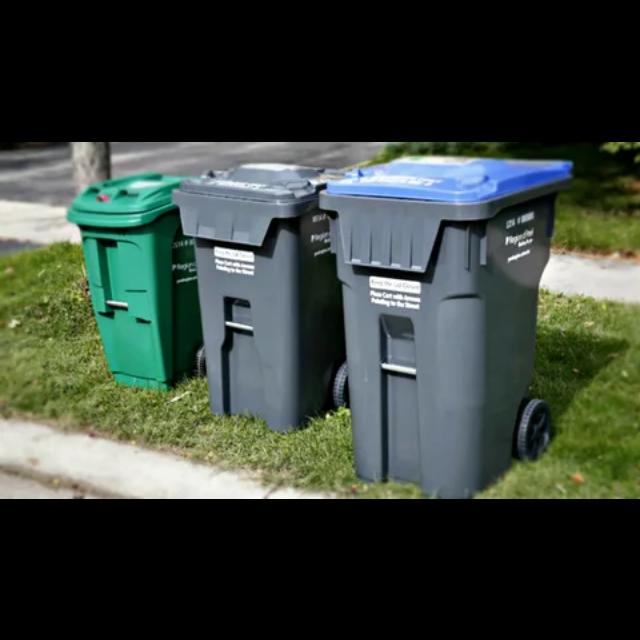Trash_Can_Closed: (321, 151, 573, 498), (175, 157, 352, 429), (64, 168, 203, 389)
